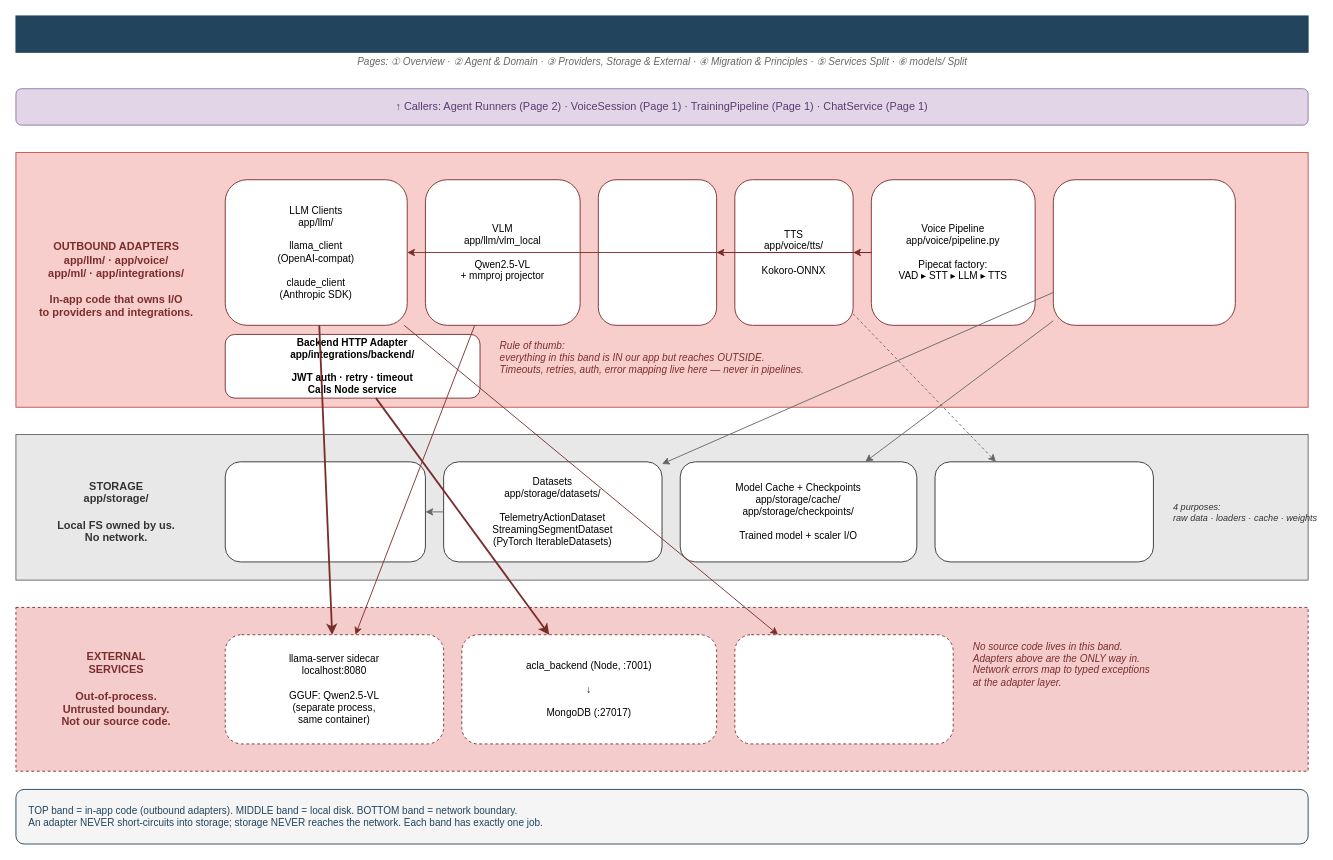
The diagram is 1333 pixels wide and 860 high, and some of its shapes have lost their labels. Here are the shapes that lost their labels. From the top down, the centre of each, then its label:
At point 661,33: "Page 3 — Outbound Adapters · Local Storage · External Services".
At point 657,252: "STT app/voice/stt/ faster-whisper".
At point 1143,252: "ML Model Code app/ml/ transformer/ · imitation/ segment_classifier/ (see Page 5)".
At point 324,511: "Zarr Telemetry Store app/storage/zarr/ Chunked + compressed".
At point 1043,511: "GGUF / Kokoro Volumes docker volume mounts Downloaded weights only".
At point 843,689: "api.anthropic.com Claude API via SDK subprocess (spawns `claude` CLI)".
